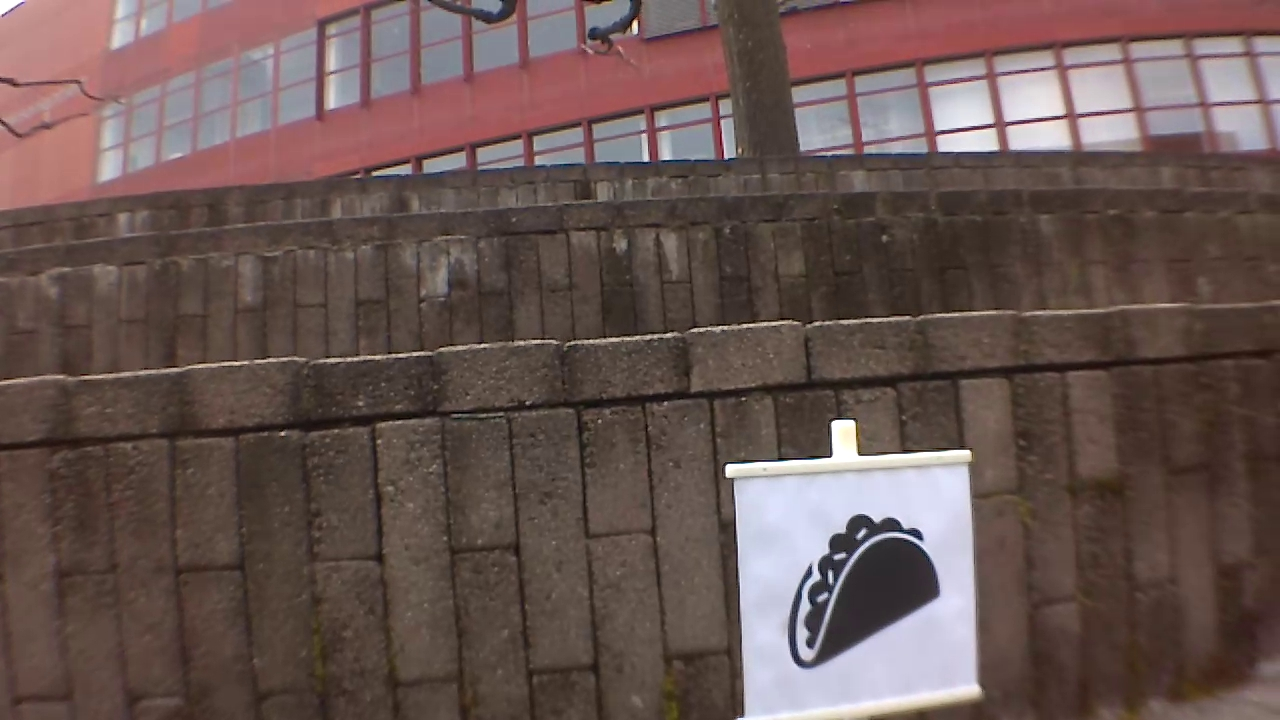taco: (778, 509, 950, 675)
